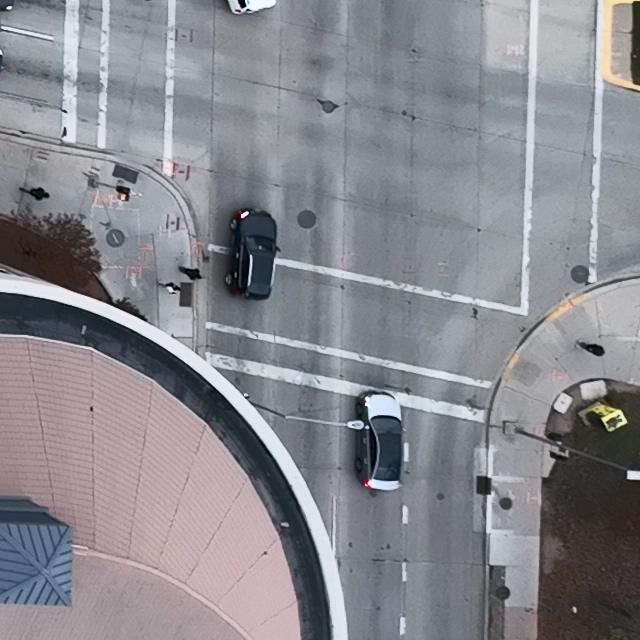car: (223, 209, 282, 301), (355, 389, 407, 492)
